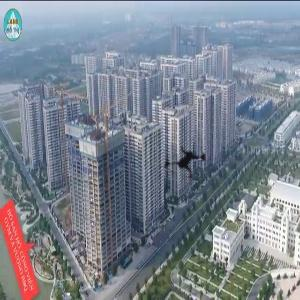drone: (144, 122, 230, 208)
